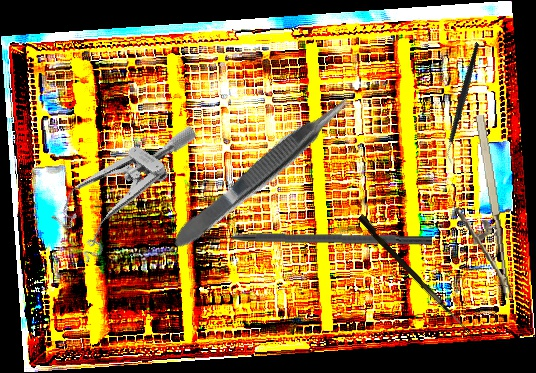Chopper: (410, 41, 518, 165)
Hook Surgical: (355, 214, 481, 340), (194, 229, 433, 247)
Needle Holder: (444, 113, 513, 304)
Speculum: (41, 90, 199, 274)
Tissue Forceps: (165, 87, 361, 254)
